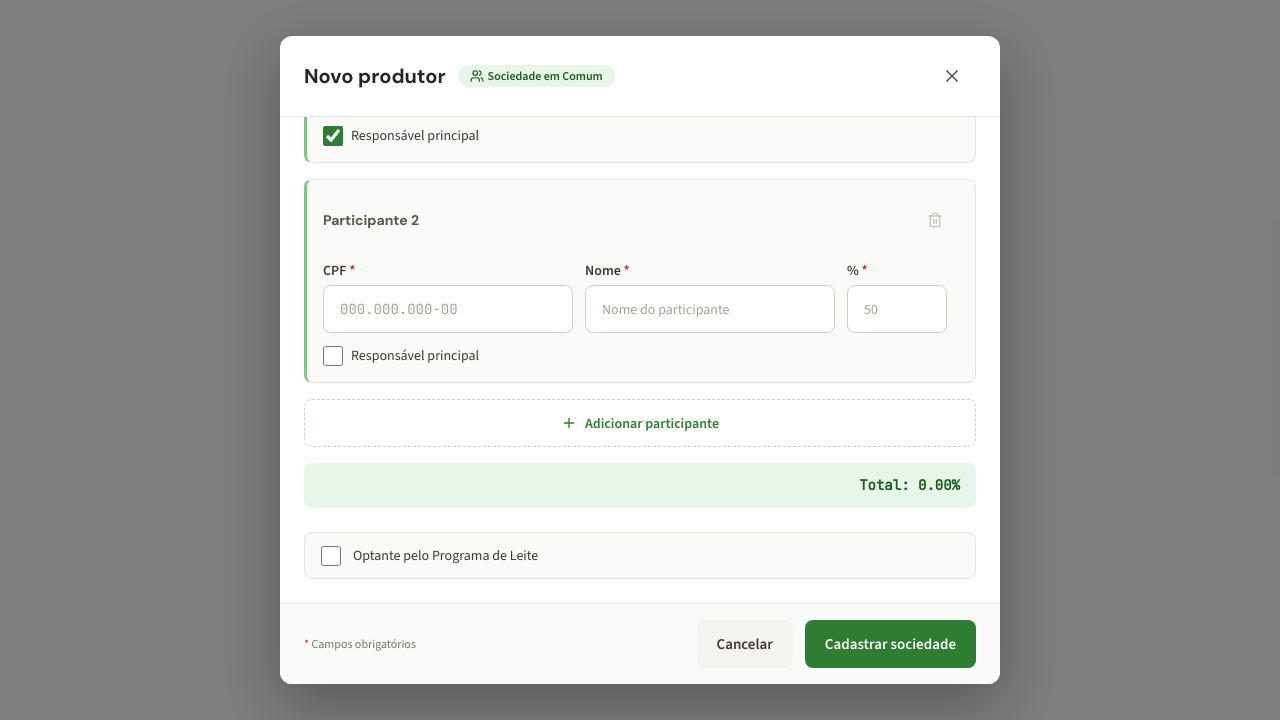
ProducerSCFormModal › should enable remove button when more than 2 participants
The width and height of the screenshot is (1280, 720).
(page scrolled)
Click the button "Adicionar participante" at {"x": 640, "y": 423}, box [304, 399, 976, 447]
(page scrolled)
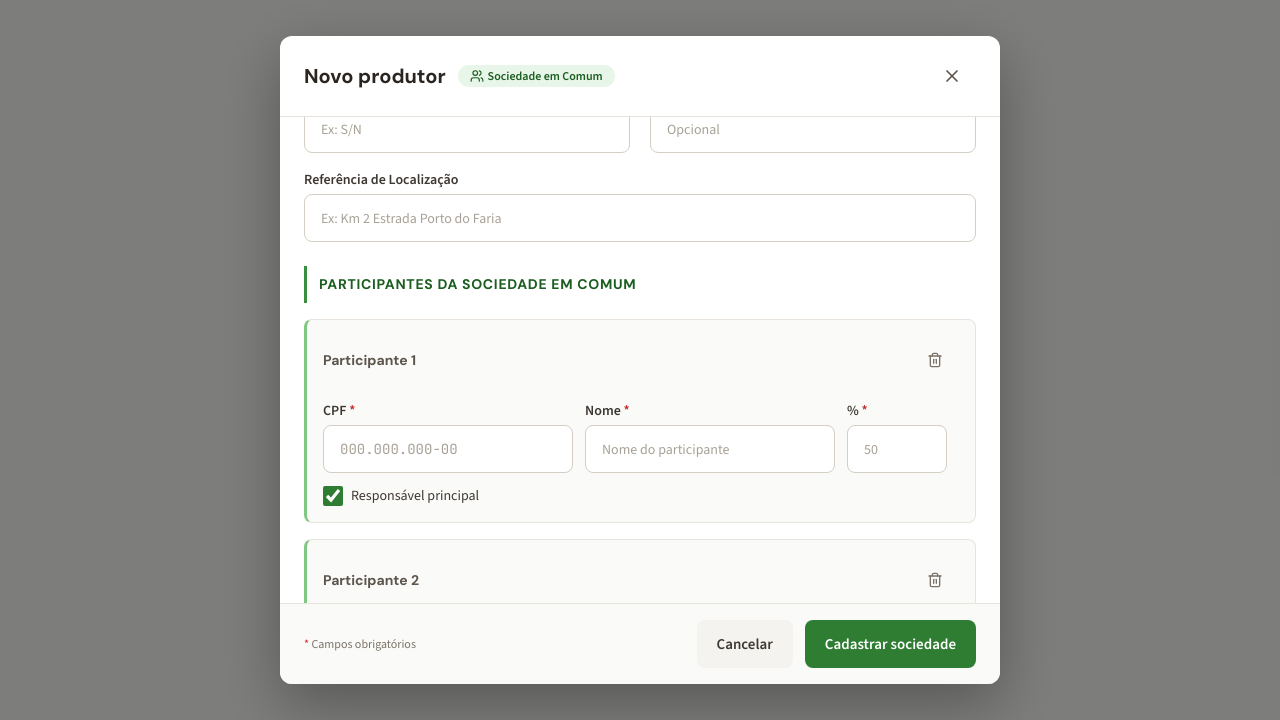
Expected: the button named "Remover participante" is enabled, [911, 336, 959, 384]
